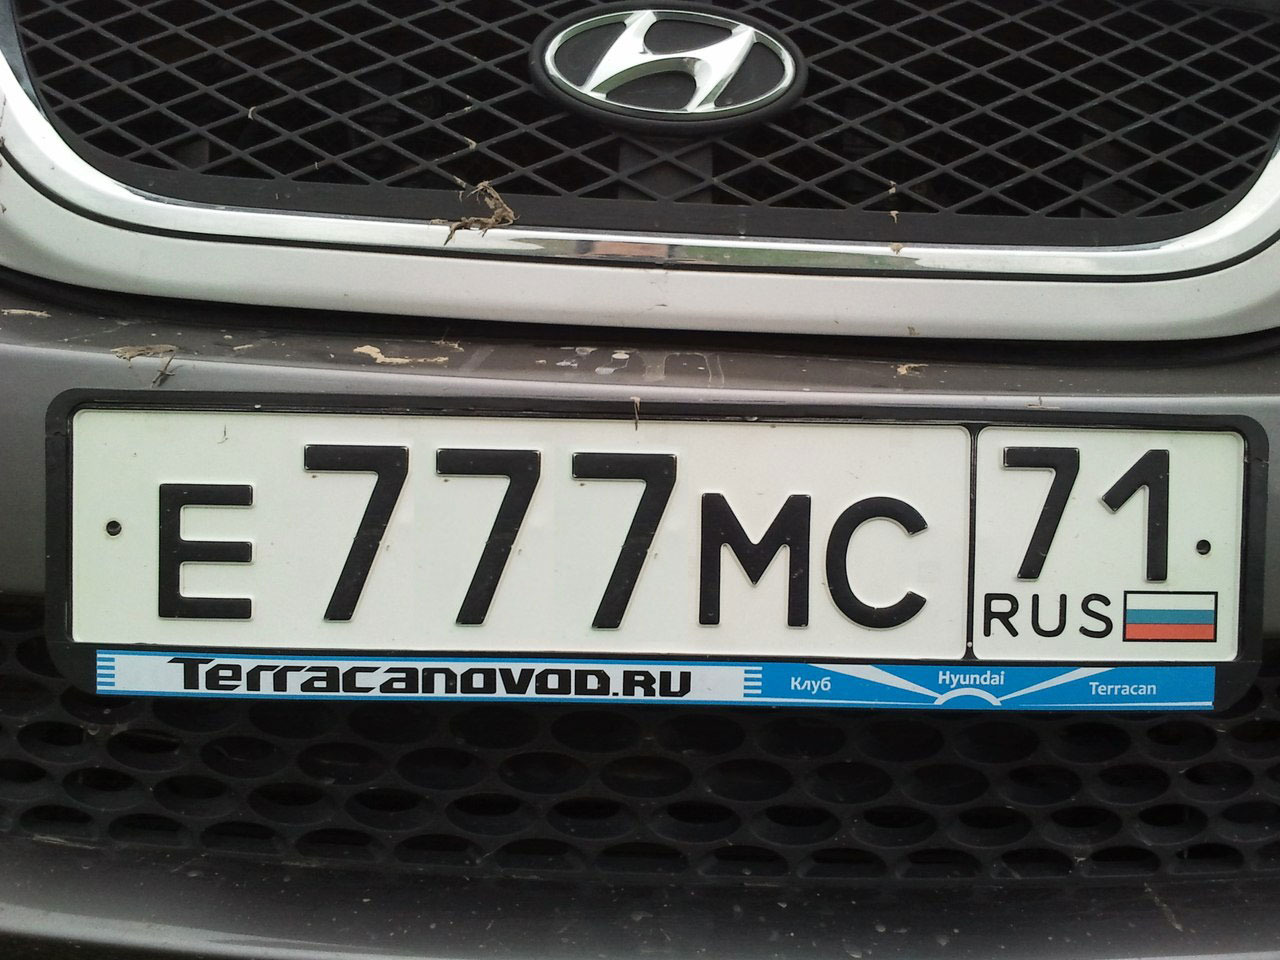number_plate: (75, 421, 1246, 636)
